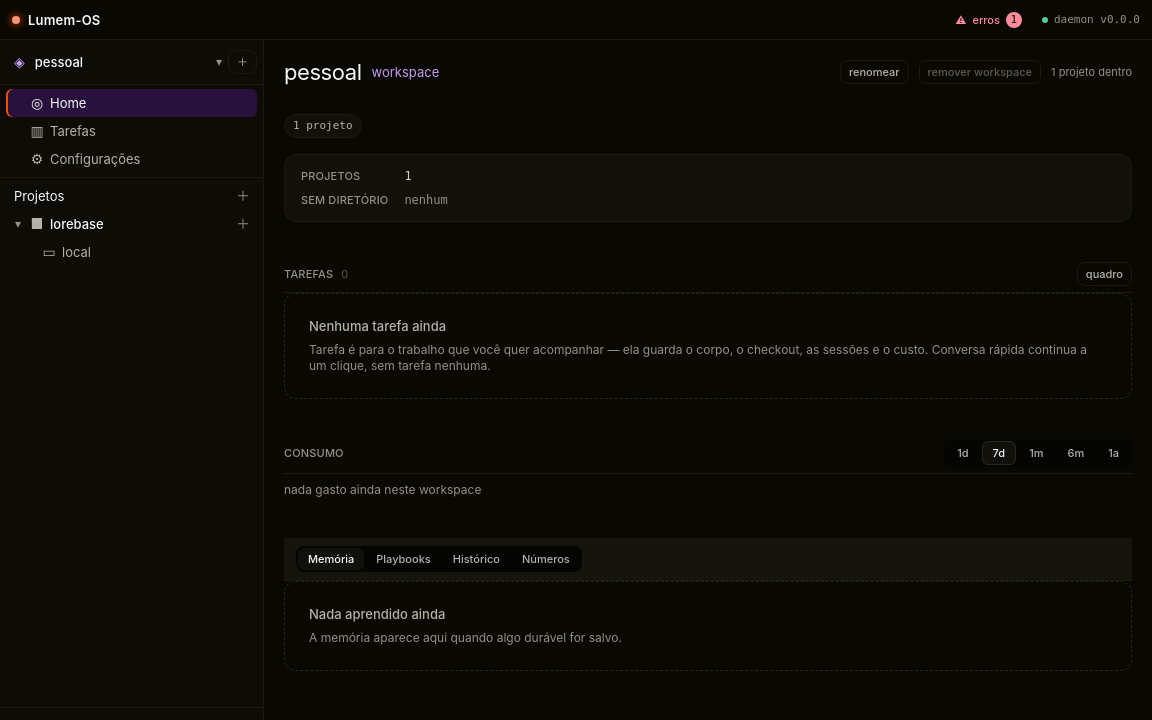
Test case: project detail › removes the registration and clears the detail
Click the button "■ lorebase": (128, 224) [26,210,231,238]
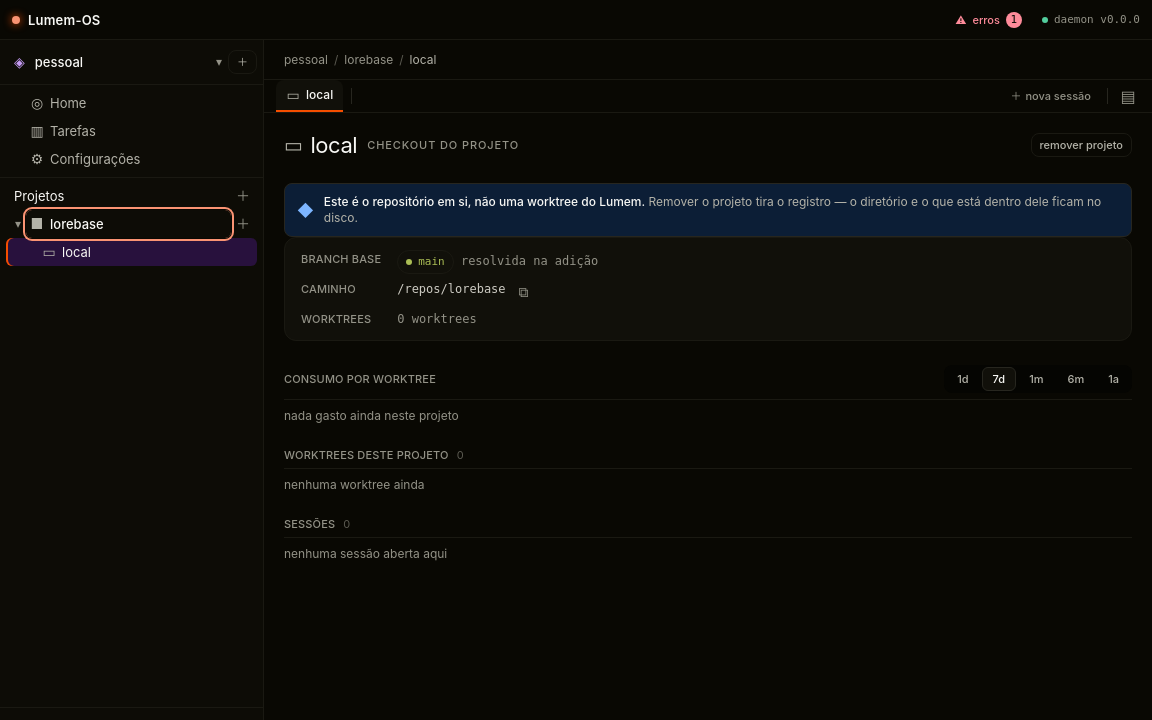
Check: the text "o diretório e o que está dentro dele ficam no disco" is shown, box [324,194,1101,225]
Click the button "remover projeto": (1081, 145) [1030,133,1132,157]
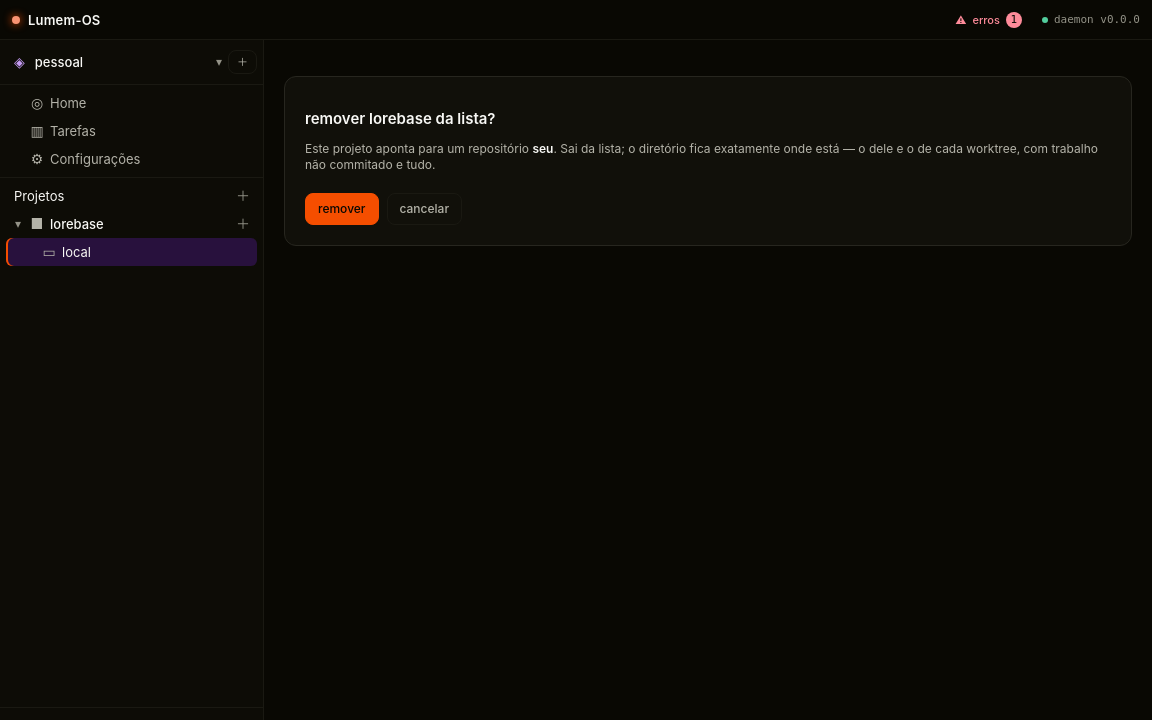
Check: the dialog shows "aponta para um repositório", box [305,141,532,156]
Check: the dialog shows "fica exatamente onde está", box [305,141,1098,172]
Click the button "remover": (342, 209) [305,193,378,225]
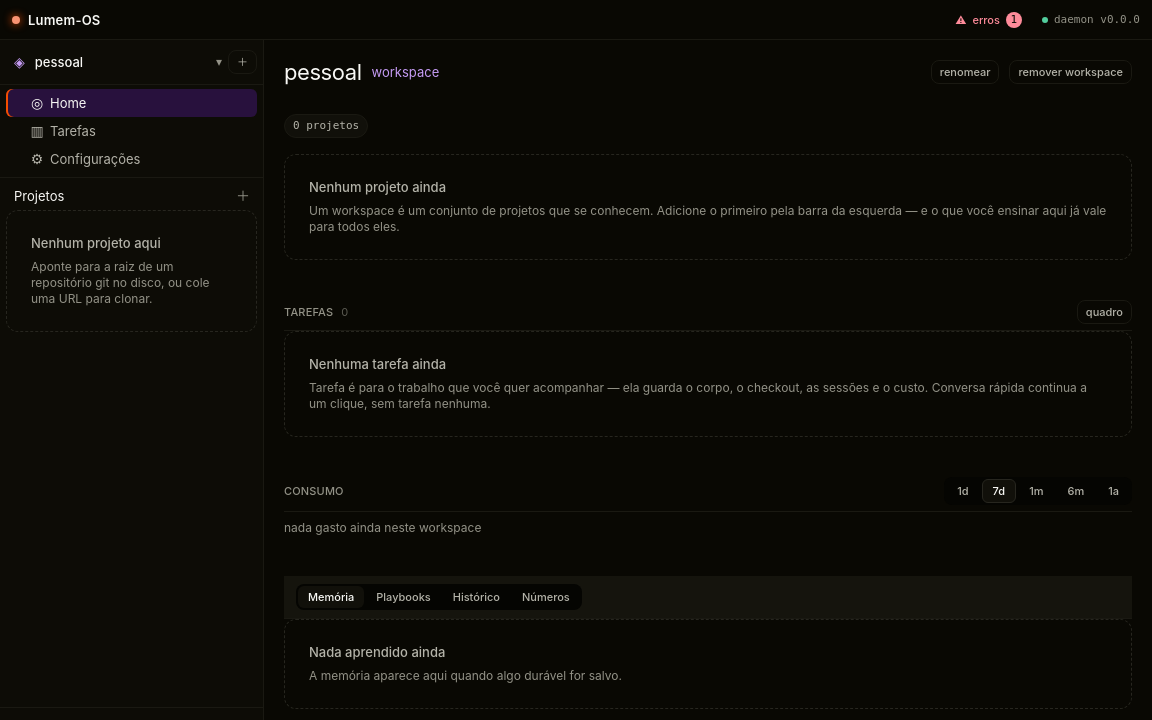
Check: the text "Nenhum projeto ainda" is shown, box [309,179,446,195]
